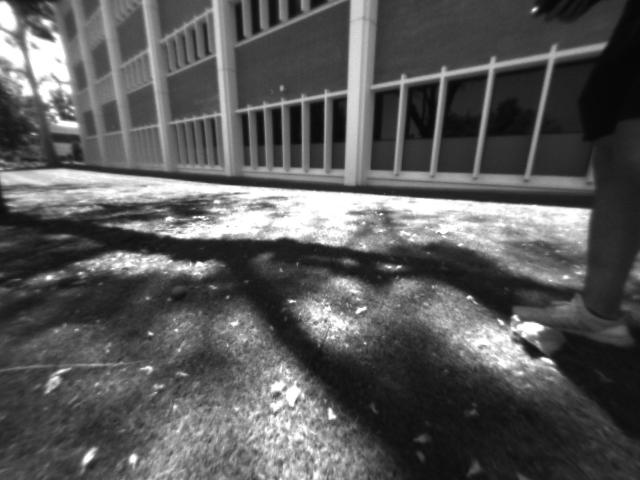dogtoy: (166, 280, 191, 306)
